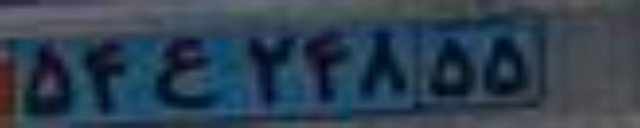2: (242, 35, 294, 103)
4: (302, 30, 357, 101), (81, 41, 130, 115)
5: (22, 41, 75, 118), (483, 36, 533, 95), (429, 37, 477, 97)
8: (363, 28, 409, 97)
ain: (153, 36, 226, 108)
